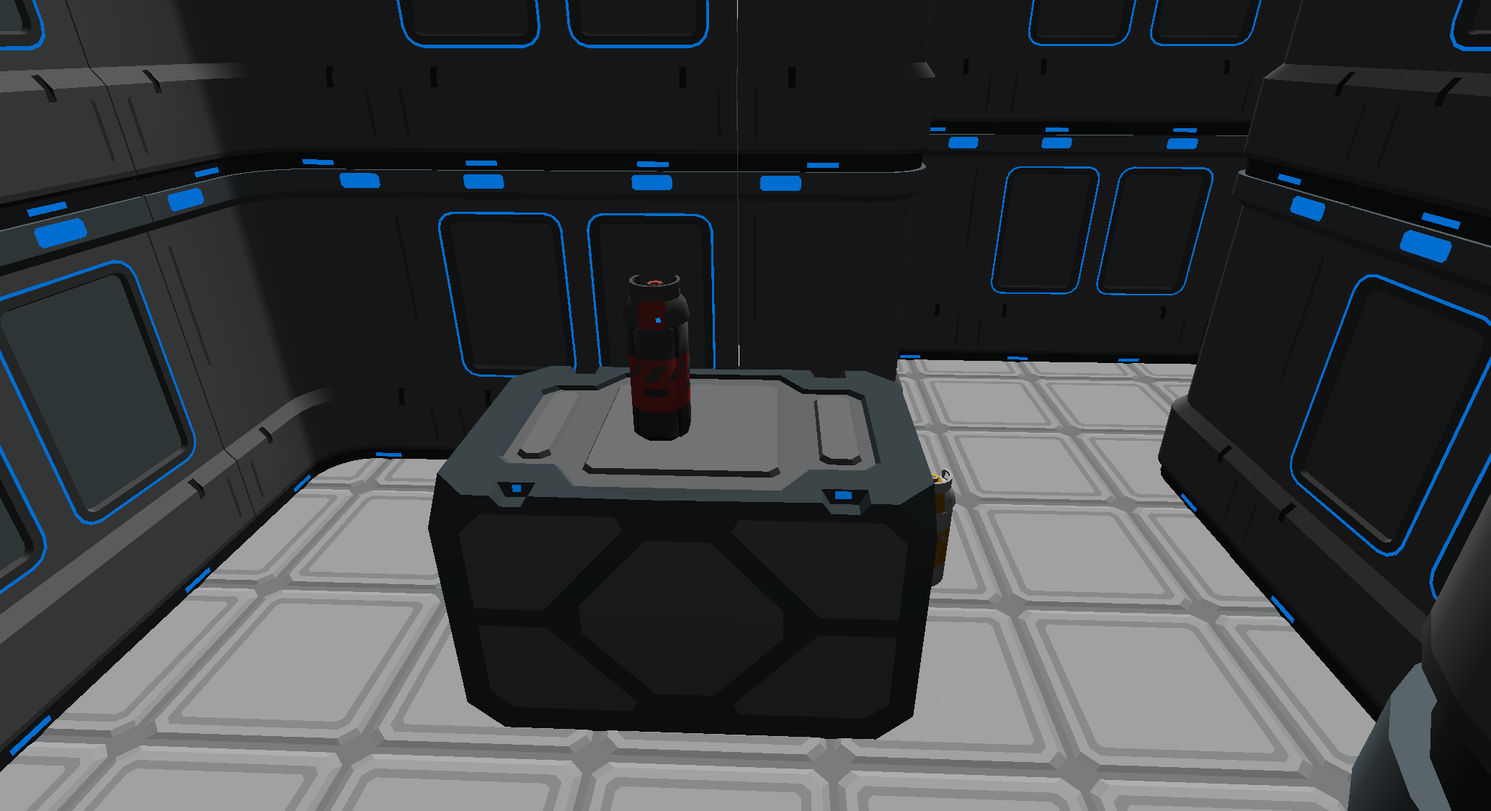red_barrel: (623, 275, 692, 442)
yellow_barrel: (927, 465, 955, 585)
